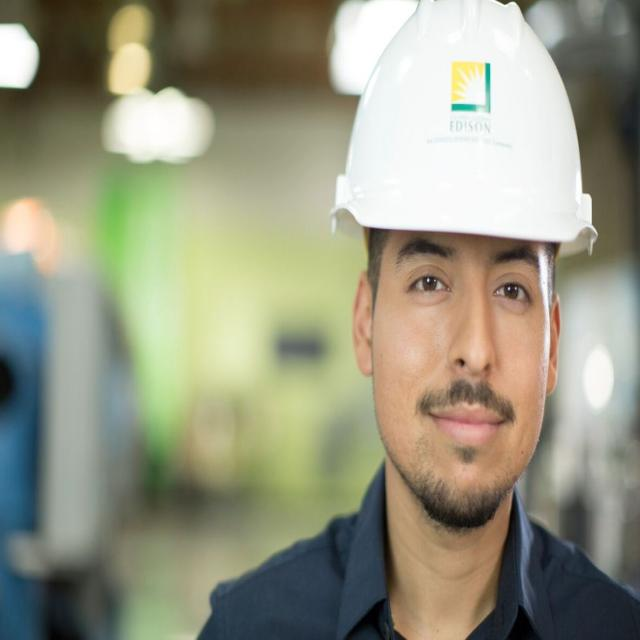helmet: (331, 1, 598, 527)
